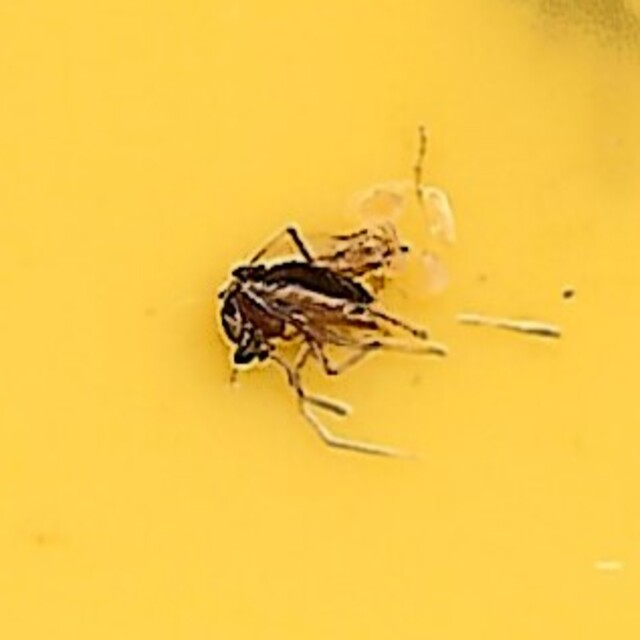Nematocera: (202, 225, 438, 415)
